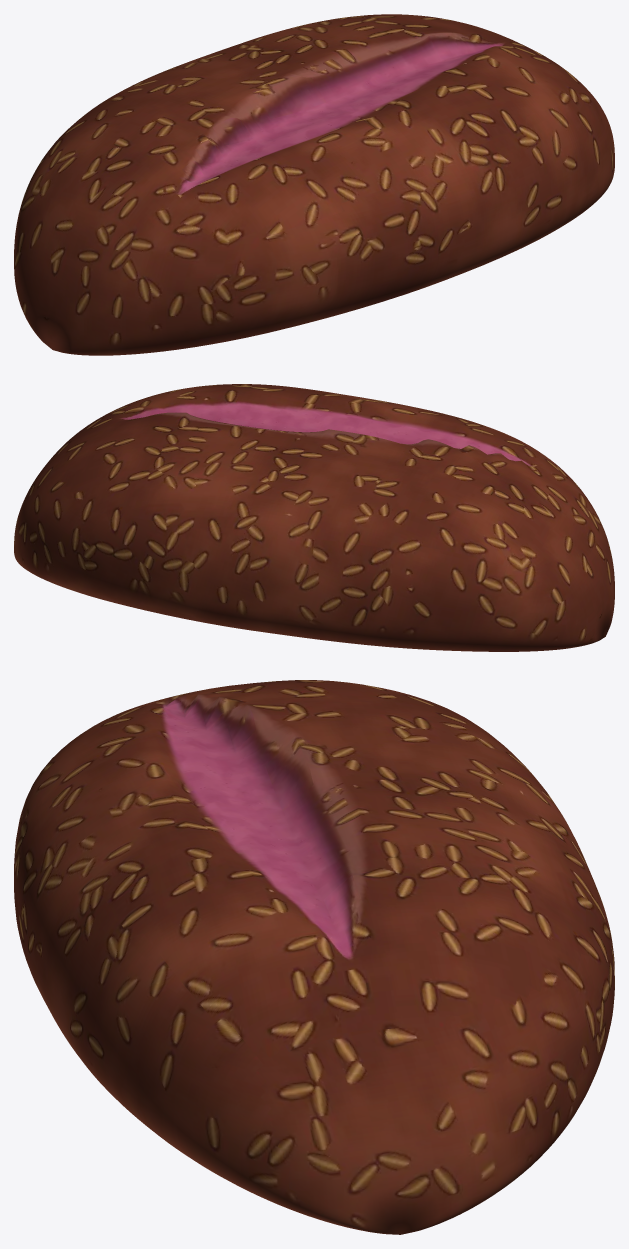
The model's file is rye--beet-puree.glb.
The picture shows the model from 3 angles, top to bottom: view 1: azimuth 30°, elevation 25°; view 2: azimuth 150°, elevation 25°; view 3: azimuth 270°, elevation 25°; orthographic projection. The views are drawn at different scales.
Parts seen in each view (by area): view 1: rye_beet-puree; view 2: rye_beet-puree; view 3: rye_beet-puree.
Part boxes in pixels (x1,y1,x2,y2): rye_beet-puree: (14, 14, 614, 355); rye_beet-puree: (14, 384, 614, 651); rye_beet-puree: (14, 680, 614, 1234).
Bounding box in the file's own units: 0.9927 × 0.296 × 0.6286.
1 material, 1 textured.
